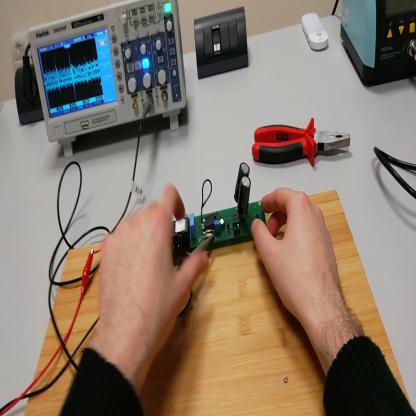hand: (99, 186, 212, 362), (253, 186, 345, 334)
high voltage board: (173, 163, 267, 265)
oscilloscope: (30, 2, 190, 167)
oscilloscope probe tip: (177, 233, 215, 277)
pliers: (254, 119, 354, 168)
socket: (13, 61, 46, 130)
welder station: (340, 2, 416, 90)
working area: (24, 191, 412, 415)
